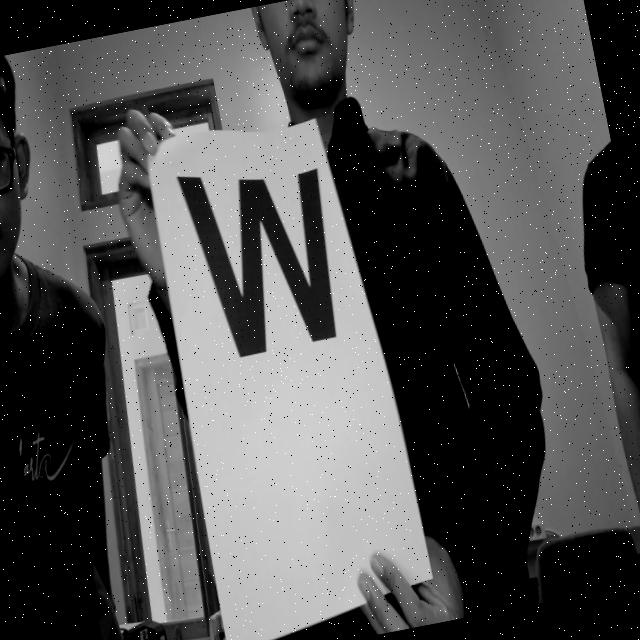w: (163, 126, 370, 400)
